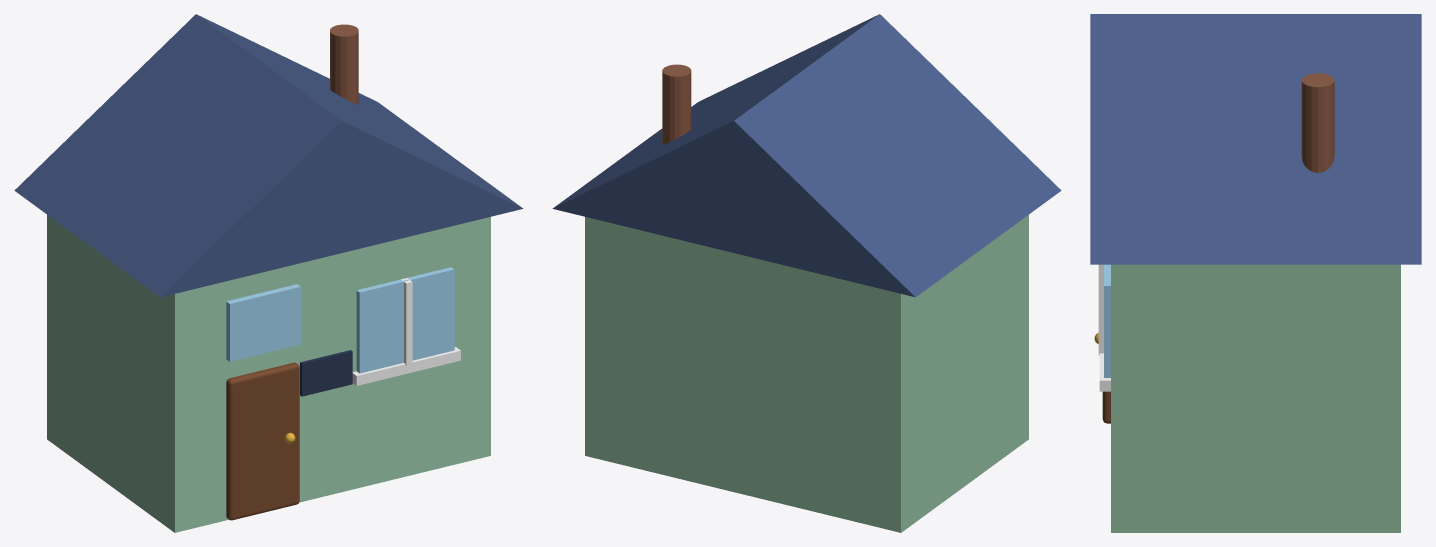
File: casa_verde.glb
3 views of the same model, side by side, from view 1: azimuth 30°, elevation 25°; view 2: azimuth 150°, elevation 25°; view 3: azimuth 270°, elevation 25° (orthographic). The views are drawn at different scales.
Visible parts, largest first — view 1: Cube, techo, Cube.001, Cube.002, Cube.005, Cylinder, numero, Cube.003, Cube.004; view 2: Cube, techo, Cylinder; view 3: techo, Cube, Cylinder, Cube.002, Cube.004.
Boxes of the visible parts, x1=… form: Cube: x1=47, y1=215, x2=490, y2=532; techo: x1=14, y1=14, x2=523, y2=297; Cube.001: x1=226, y1=362, x2=299, y2=520; Cube.002: x1=356, y1=267, x2=454, y2=373; Cube.005: x1=226, y1=284, x2=300, y2=361; Cylinder: x1=330, y1=24, x2=358, y2=104; numero: x1=300, y1=350, x2=352, y2=396; Cube.003: x1=352, y1=347, x2=460, y2=385; Cube.004: x1=401, y1=278, x2=412, y2=365; Cube: x1=585, y1=215, x2=1028, y2=532; techo: x1=552, y1=14, x2=1061, y2=297; Cylinder: x1=662, y1=64, x2=691, y2=144; techo: x1=1090, y1=14, x2=1421, y2=264; Cube: x1=1111, y1=264, x2=1400, y2=532; Cylinder: x1=1301, y1=73, x2=1334, y2=172; Cube.002: x1=1104, y1=264, x2=1110, y2=377; Cube.004: x1=1098, y1=264, x2=1103, y2=355.
Bounding box in the file's own units: 2.3 × 2.3 × 1.6.
